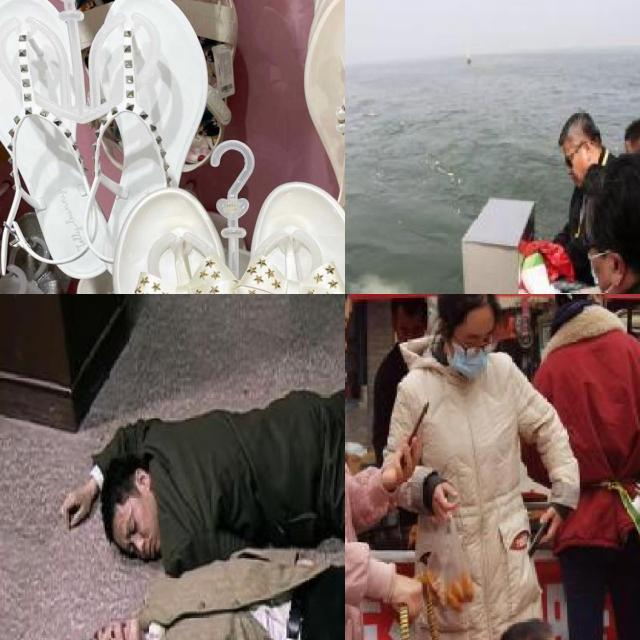Sandals: (0, 0, 204, 283), (103, 165, 345, 294)
face_mask: (451, 314, 492, 382)
face_nomask: (114, 500, 171, 566), (75, 607, 146, 640), (345, 302, 366, 387), (554, 146, 588, 184)
glasses: (462, 336, 498, 364)
hand_glove: (515, 276, 566, 294)
hand_noglove: (383, 435, 418, 493), (391, 570, 423, 618), (60, 486, 90, 531), (429, 481, 458, 523), (538, 506, 560, 546)
head_nohelmet: (442, 294, 501, 322), (554, 108, 598, 144), (623, 109, 640, 155)
person: (389, 294, 576, 640), (49, 397, 345, 580), (508, 294, 640, 640), (521, 173, 640, 294)
